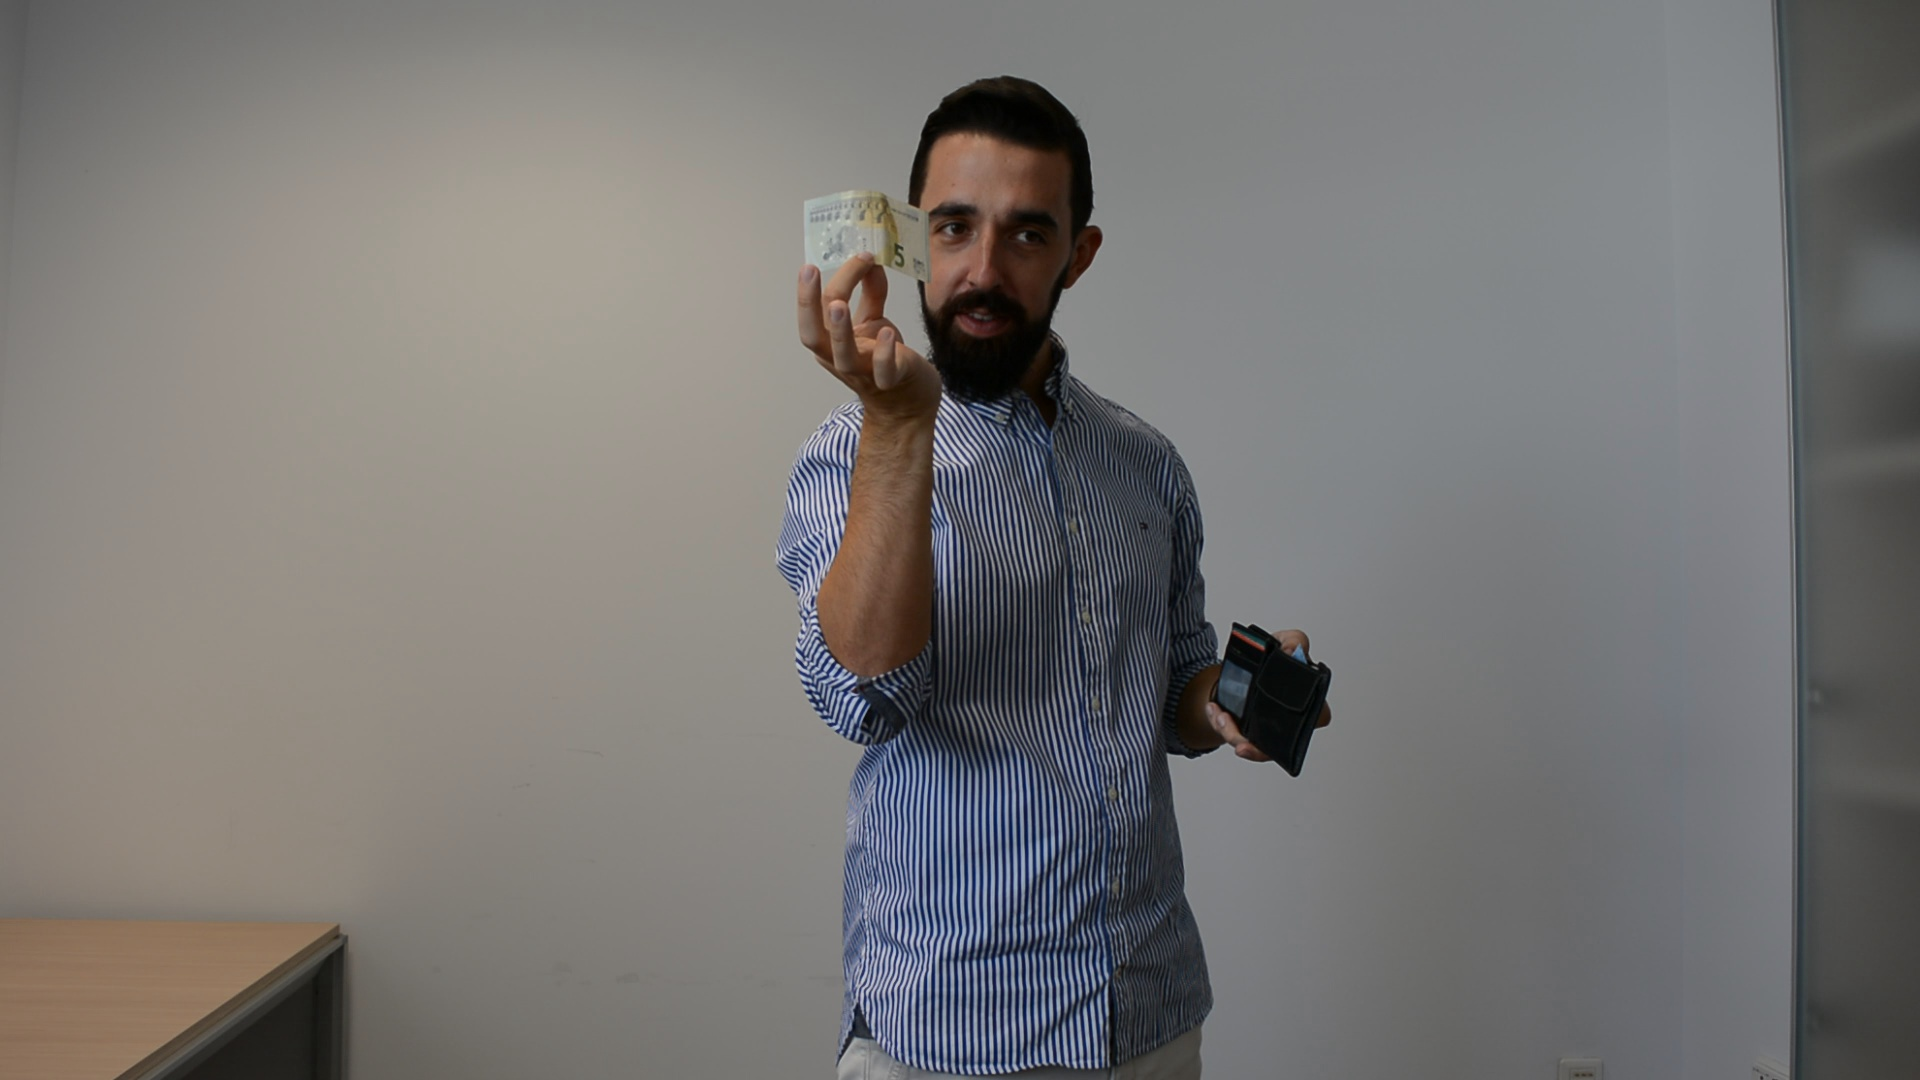billete: (798, 189, 934, 287)
monedero: (1207, 616, 1335, 781)
